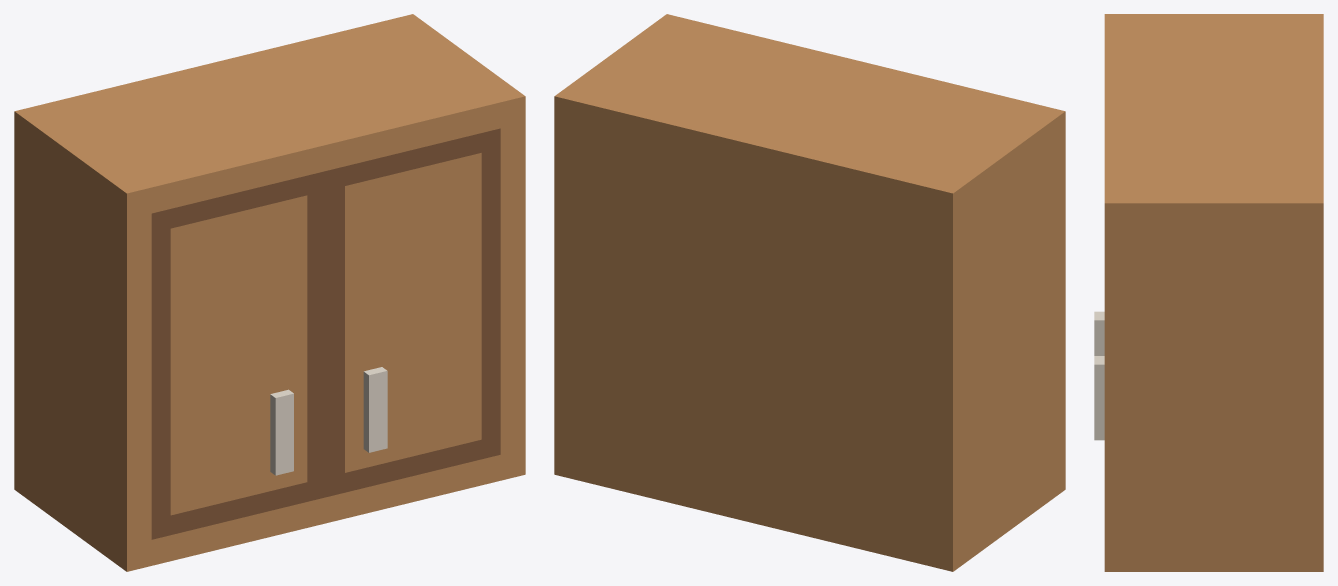
Rendered from kitKitchenCabinetUpperDouble.glb.
The picture shows the model from 3 angles, left to right: view 1: azimuth 30°, elevation 25°; view 2: azimuth 150°, elevation 25°; view 3: azimuth 270°, elevation 25°; orthographic projection. The views are drawn at different scales.
Parts seen in each view (by area): view 1: kitKitchenCabinetUpperDouble_wood, kitKitchenCabinetUpperDouble_woodDark, kitKitchenCabinetUpperDouble_metal; view 2: kitKitchenCabinetUpperDouble_wood; view 3: kitKitchenCabinetUpperDouble_wood, kitKitchenCabinetUpperDouble_metal.
Part boxes in pixels (<box>): kitKitchenCabinetUpperDouble_wood: <box>14,14,525,571</box>; kitKitchenCabinetUpperDouble_woodDark: <box>151,128,500,539</box>; kitKitchenCabinetUpperDouble_metal: <box>270,367,387,475</box>; kitKitchenCabinetUpperDouble_wood: <box>554,14,1065,571</box>; kitKitchenCabinetUpperDouble_wood: <box>1104,14,1323,571</box>; kitKitchenCabinetUpperDouble_metal: <box>1094,311,1104,440</box>.
Size of the model in its own units: 0.86 by 0.78 by 0.44.
